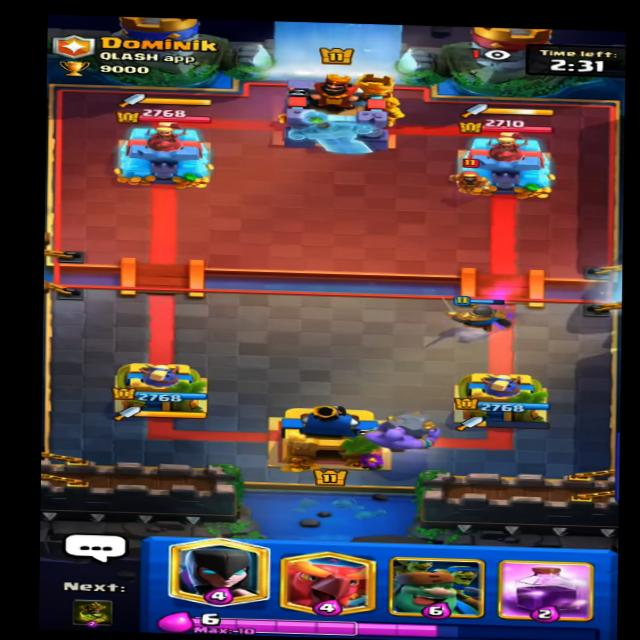wizard: (438, 151, 489, 192)
